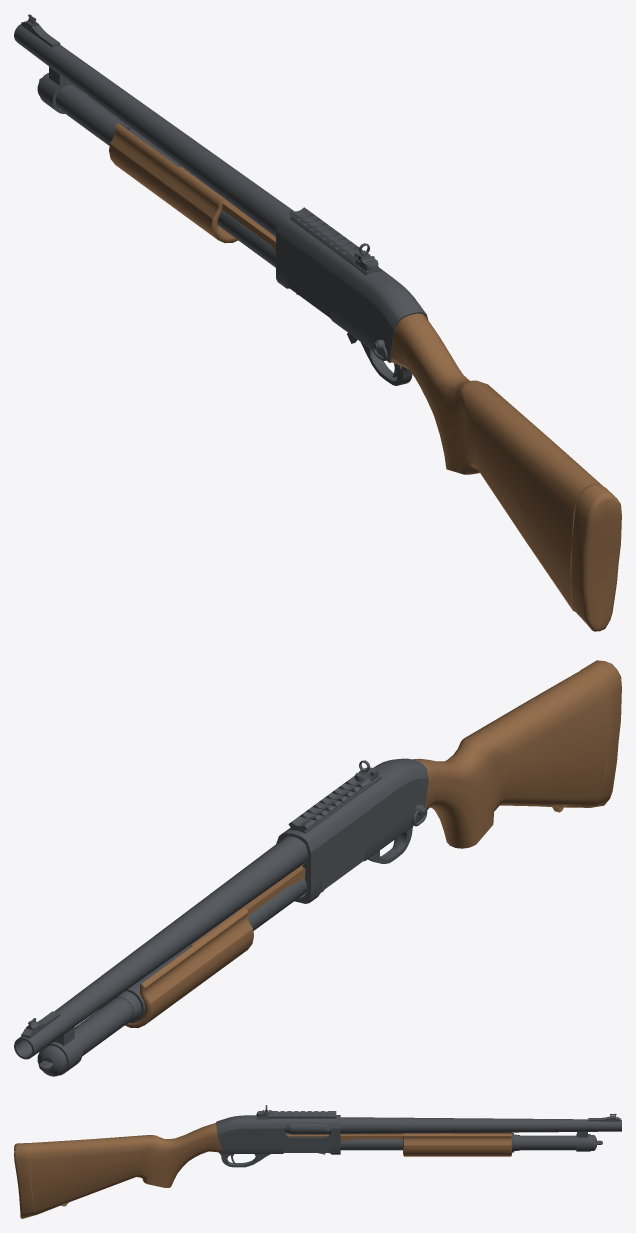
File: gun_shotgun.glb
3 renders of one model, top to bottom at view 1: azimuth 30°, elevation 25°; view 2: azimuth 150°, elevation 25°; view 3: azimuth 270°, elevation 25°, orthographic. The views are drawn at different scales.
Visible parts, largest first — view 1: Culata_low, Cuerpo_low, canon_principal_low, Goma_culata_low, Corredera_low, Tubo_cargador_low, Rieles_delanteros_low; view 2: Culata_low, canon_principal_low, Cuerpo_low, Corredera_low, Tubo_cargador_low, Rieles_delanteros_low, Goma_culata_low, varilla_corredera_low, Inter_canon_low; view 3: Culata_low, canon_principal_low, Cuerpo_low, Corredera_low, Tubo_cargador_low, Goma_culata_low, Rieles_delanteros_low, varilla_corredera_low, Interno_canon_low, Inter_canon_low, Guardadedos_low.
Part boxes in pixels (x1,y1,x2,y2): Culata_low: (390,313,603,611); Cuerpo_low: (276,214,428,362); canon_principal_low: (14,24,293,236); Goma_culata_low: (571,484,621,631); Corredera_low: (109,123,237,243); Tubo_cargador_low: (37,73,275,267); Rieles_delanteros_low: (288,207,381,275); Culata_low: (413,667,611,848); canon_principal_low: (14,836,307,1059); Cuerpo_low: (276,758,428,903); Corredera_low: (125,908,253,1027); Tubo_cargador_low: (37,877,307,1076); Rieles_delanteros_low: (288,767,381,833); Goma_culata_low: (580,660,621,807); varilla_corredera_low: (190,861,306,947); Inter_canon_low: (48,1027,82,1075); Culata_low: (28,1123,222,1214); canon_principal_low: (340,1117,621,1133); Cuerpo_low: (216,1115,340,1154); Corredera_low: (403,1132,511,1156); Tubo_cargador_low: (340,1135,596,1150); Goma_culata_low: (14,1143,35,1218); Rieles_delanteros_low: (256,1110,336,1119); varilla_corredera_low: (285,1133,452,1140); Interno_canon_low: (284,1124,331,1134); Inter_canon_low: (576,1131,590,1151); Guardadedos_low: (219,1152,270,1167).
Bounding box in the file's own units: 0.046 × 0.204 × 0.9974.
